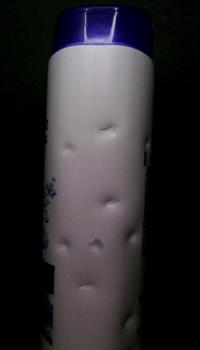dent_unacceptable: (55, 232, 110, 298), (90, 114, 124, 144), (113, 308, 142, 340), (92, 192, 133, 213), (58, 138, 85, 168), (119, 222, 147, 247), (140, 134, 159, 152)
